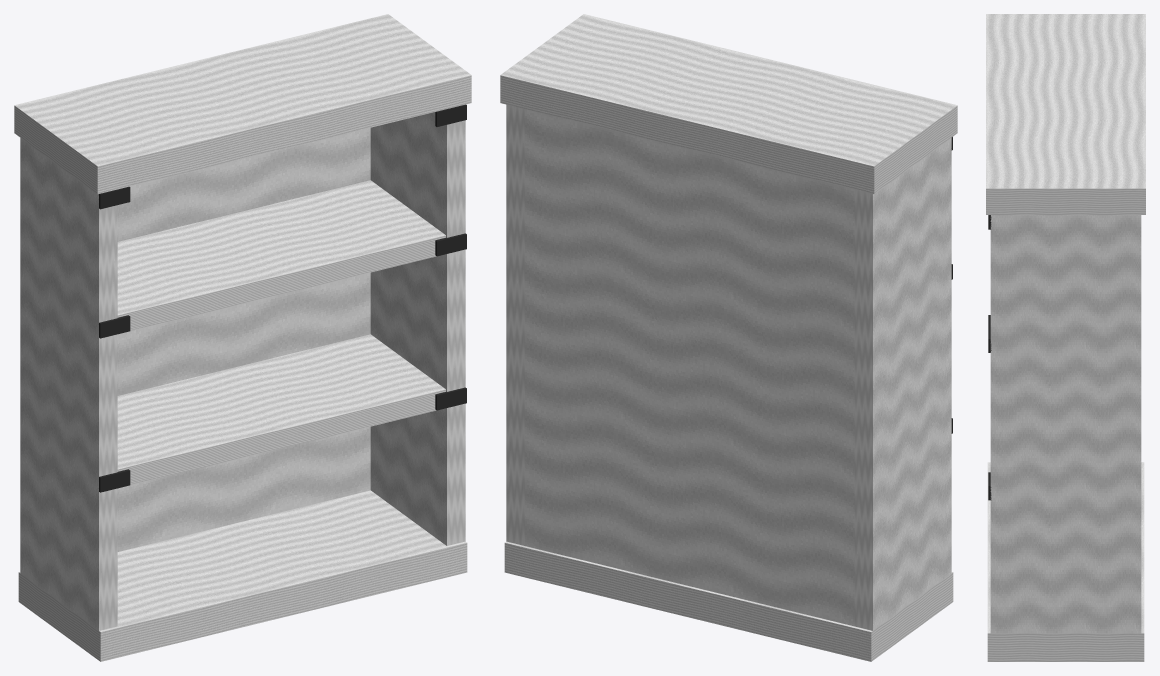
3 renders of one model, left to right at view 1: azimuth 30°, elevation 25°; view 2: azimuth 150°, elevation 25°; view 3: azimuth 270°, elevation 25°, orthographic. The views are drawn at different scales.
Visible parts, largest first — view 1: 5 back_panel, 1 top_panel, 3 left_side_panel, 2 base_plinth, 4 right_side_panel, 7 lower_shelf, 6 upper_shelf; view 2: 5 back_panel, 1 top_panel, 3 left_side_panel, 2 base_plinth, 4 right_side_panel; view 3: 4 right_side_panel, 1 top_panel, 2 base_plinth.
Part boxes in pixels (x1,y1,x2,y2): 5 back_panel: (117,128,370,551); 1 top_panel: (14,14,471,193); 3 left_side_panel: (20,138,117,630); 2 base_plinth: (18,490,467,661); 4 right_side_panel: (370,112,465,545); 7 lower_shelf: (117,334,445,485); 6 upper_shelf: (117,180,445,330); 5 back_panel: (525,109,854,626); 1 top_panel: (500,14,957,193); 3 left_side_panel: (854,138,951,630); 2 base_plinth: (504,541,953,661); 4 right_side_panel: (506,104,524,545); 4 right_side_panel: (990,215,1141,633); 1 top_panel: (986,14,1145,214); 2 base_plinth: (987,462,1144,661).
Size of the model in its own units: 0.8001 by 1.02 by 0.3099.
2 materials, 1 textured.
